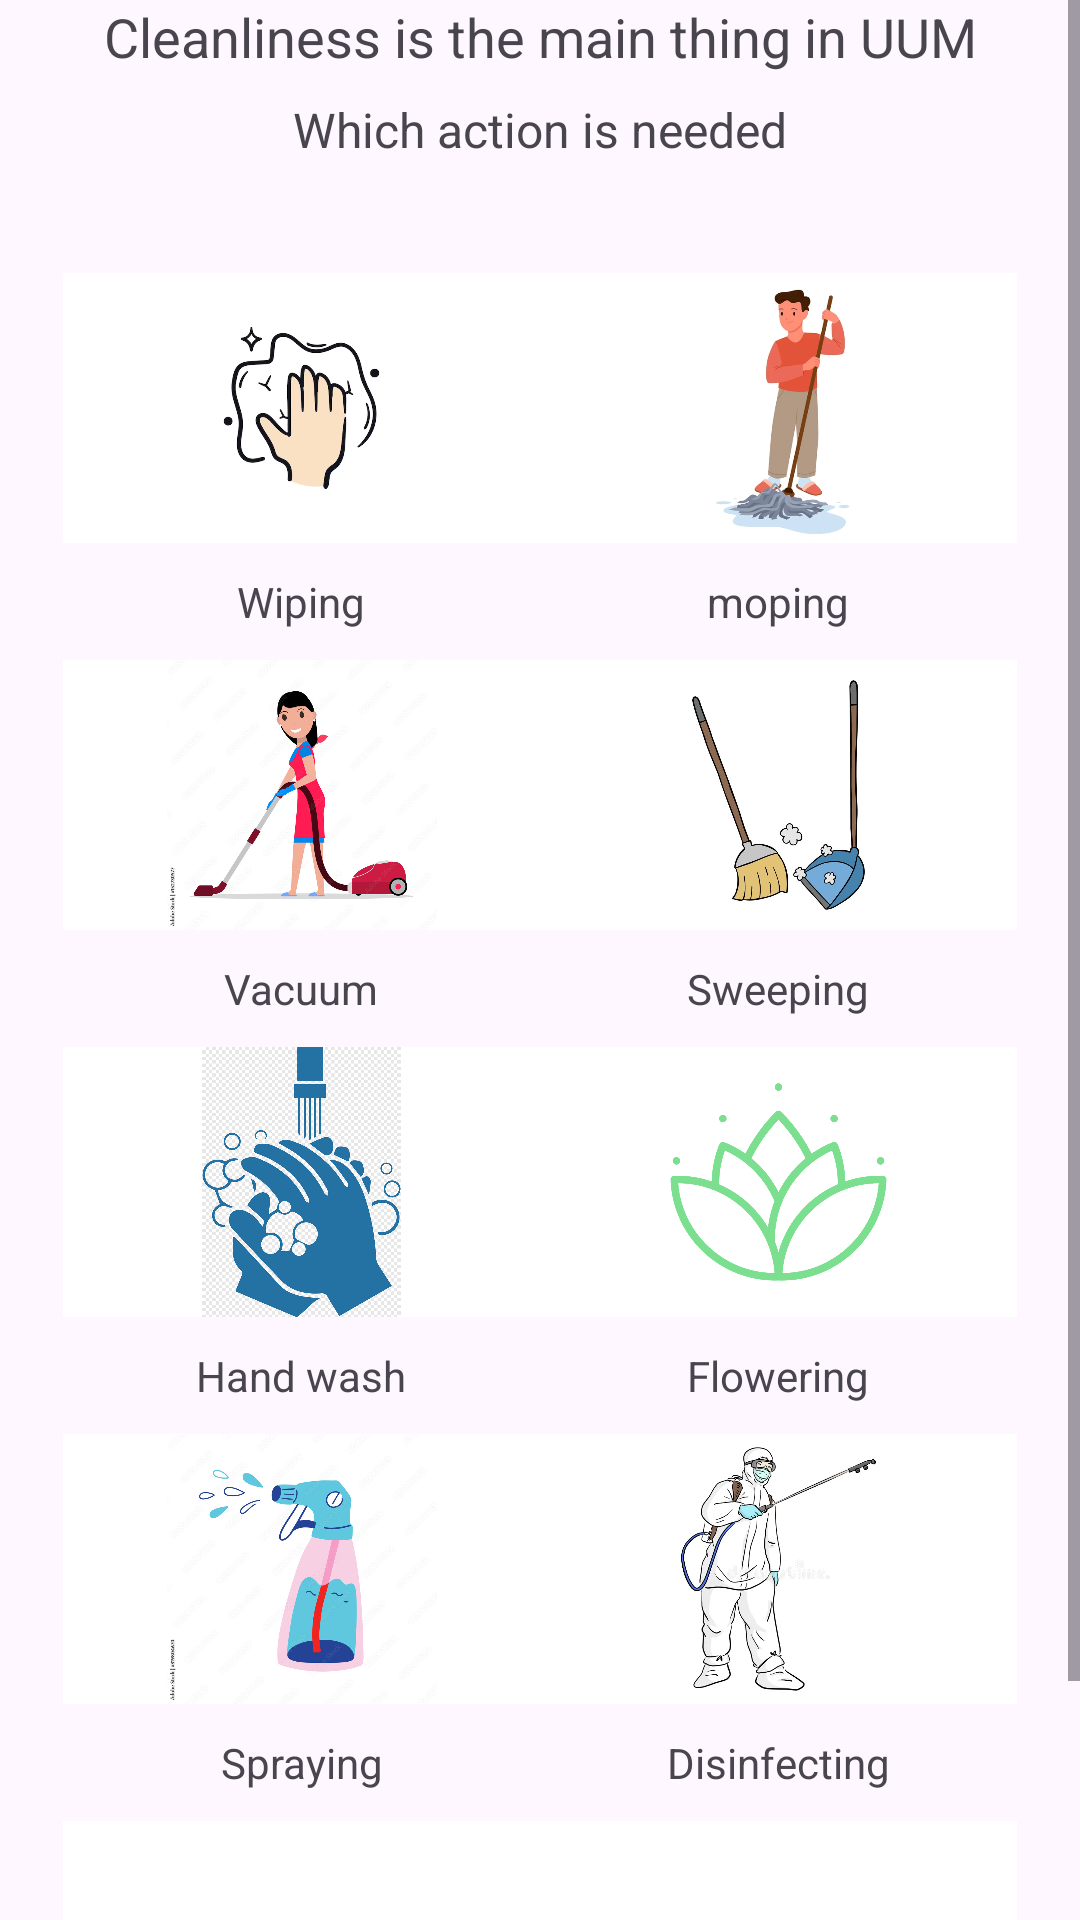

Icons on this 1080 × 1920 Android screen, each with its box as (x1, y1, x2, y2):
wipe: (223, 327, 380, 489)
